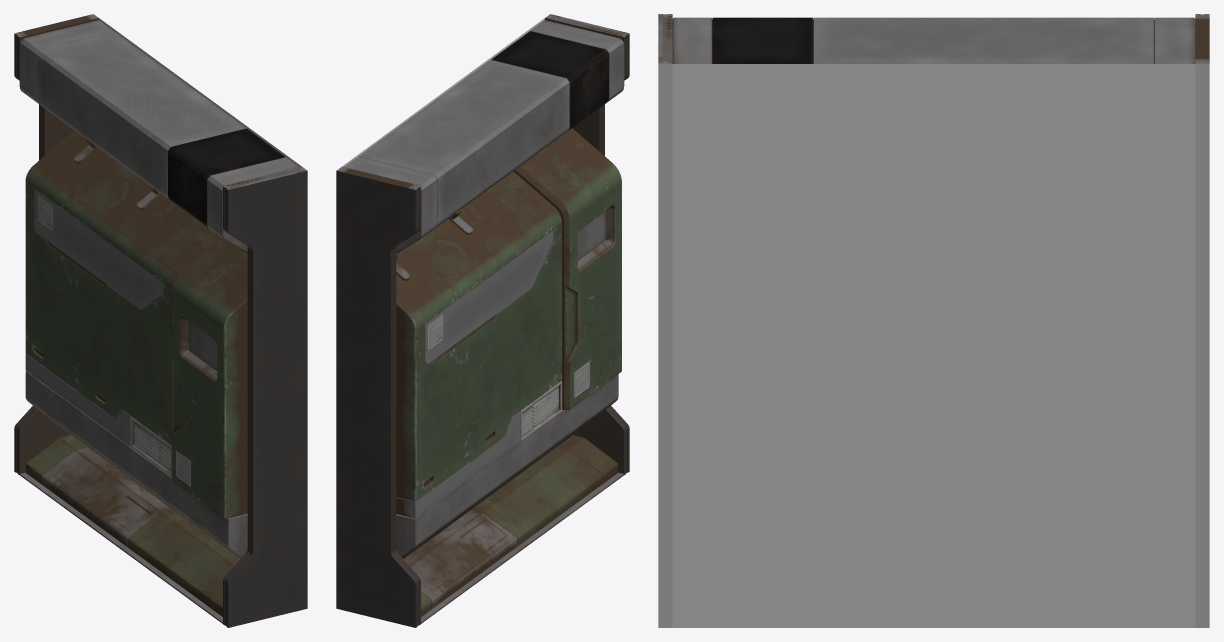
The model's file is SM_CorridorWall01.fbx.
3 views of the same model, side by side, from view 1: azimuth 30°, elevation 25°; view 2: azimuth 150°, elevation 25°; view 3: azimuth 270°, elevation 25° (orthographic). The views are drawn at different scales.
Parts seen in each view (by area): view 1: SM_CorridorWall01_LOD0; view 2: SM_CorridorWall01_LOD0; view 3: SM_CorridorWall01_LOD0.
Part boxes in pixels (box(x1,y1,x2,y2)): SM_CorridorWall01_LOD0: box(14, 14, 307, 627); SM_CorridorWall01_LOD0: box(336, 14, 629, 627); SM_CorridorWall01_LOD0: box(658, 14, 1209, 627).
Bounding box in the file's own units: 60.27 × 280 × 316.
Materials: 2 (1 with a texture image).
